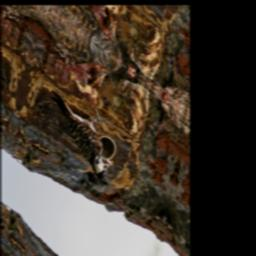Woodpecker: (41, 78, 121, 185)
